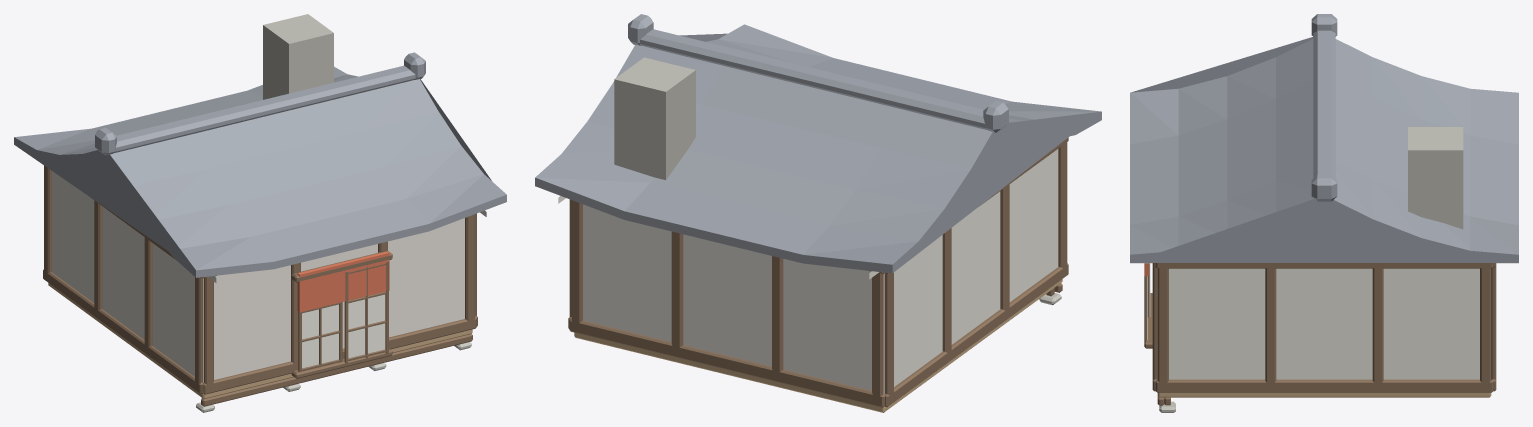
The model's file is 3dassets-feudal-japan-castle-town-bath-house-f3524f03.glb.
3 renders of one model, left to right at view 1: azimuth 30°, elevation 25°; view 2: azimuth 150°, elevation 25°; view 3: azimuth 270°, elevation 25°, orthographic. The views are drawn at different scales.
Visible parts, largest first — view 1: bath-house; view 2: bath-house; view 3: bath-house.
Part boxes in pixels (left/top/right/bottom): bath-house: left=14, top=14, right=506, bottom=412; bath-house: left=535, top=14, right=1101, bottom=412; bath-house: left=1130, top=14, right=1518, bottom=412.
Size of the model in its own units: 7.2 by 5 by 7.
